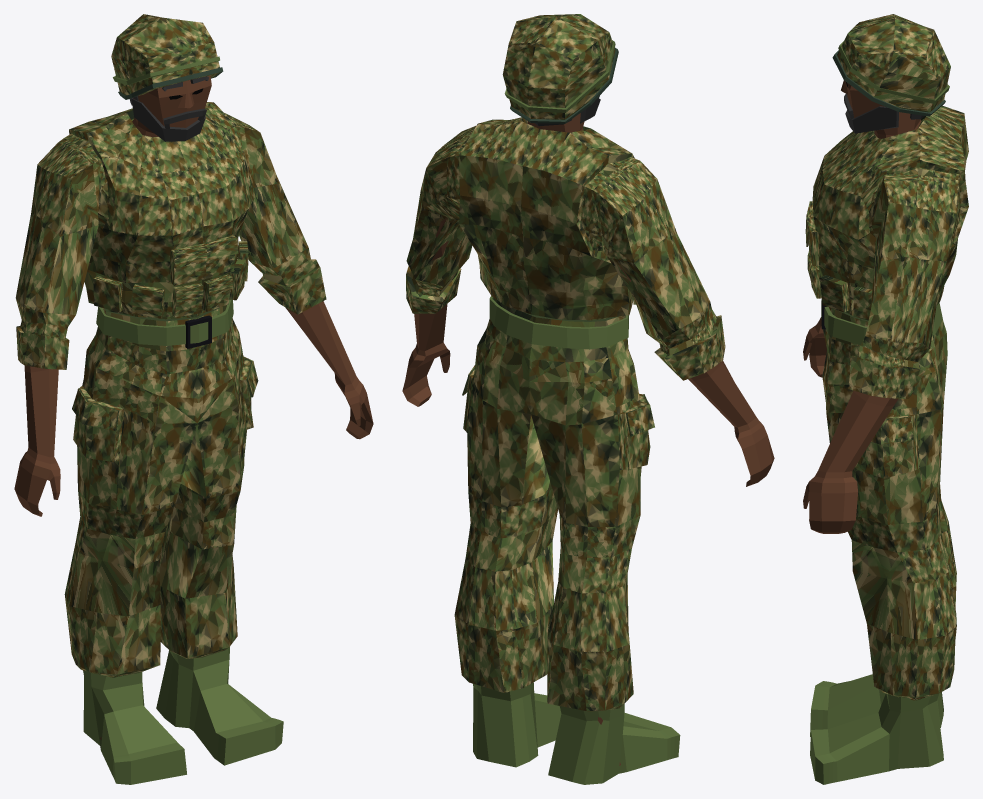
The model's file is LPC_Military_Figure_(srasmussen).fbx.
The picture shows the model from 3 angles, left to right: view 1: azimuth 30°, elevation 25°; view 2: azimuth 150°, elevation 25°; view 3: azimuth 270°, elevation 25°; orthographic projection. The views are drawn at different scales.
Parts seen in each view (by area): view 1: MG_Pants_Camo, MG Shirt_Camo, MG_Army Vest_Camo, MG_Boots_Camo.L, LPH_Arms.002, MG_BootsL_Camo.R, MG_Pockets_Camo, MG_Helmet_Camo, MG_Belt_Camo, LPH_Head.002, Beard.001; view 2: MG_Pants_Camo, MG_Army Vest_Camo, MG Shirt_Camo, MG_Helmet_Camo, MG_BootsL_Camo.R, LPH_Arms.002, MG_Boots_Camo.L, MG_Belt_Camo, MG_Band_Camo, MG_Helmet Rim_Camo; view 3: MG_Pants_Camo, MG Shirt_Camo, MG_Army Vest_Camo, MG_Boots_Camo.L, MG_Helmet_Camo, LPH_Arms.002, MG_BootsL_Camo.R, MG_Pockets_Camo, LPH_Head.002, MG_Belt_Camo, Beard.001, MG_Helmet Rim_Camo (+1 smaller).
Boxes of the visible parts, <box> form: MG_Pants_Camo: <box>64,305,258,677</box>; MG Shirt_Camo: <box>15,113,326,369</box>; MG_Army Vest_Camo: <box>69,102,255,316</box>; MG_Boots_Camo.L: <box>156,647,283,765</box>; LPH_Arms.002: <box>14,301,373,516</box>; MG_BootsL_Camo.R: <box>83,670,186,784</box>; MG_Pockets_Camo: <box>93,234,248,318</box>; MG_Helmet_Camo: <box>111,14,220,95</box>; MG_Belt_Camo: <box>96,299,233,345</box>; LPH_Head.002: <box>132,75,211,137</box>; Beard.001: <box>131,98,205,141</box>; MG_Pants_Camo: <box>454,298,654,711</box>; MG_Army Vest_Camo: <box>459,117,634,319</box>; MG Shirt_Camo: <box>406,126,725,380</box>; MG_Helmet_Camo: <box>502,14,615,119</box>; MG_BootsL_Camo.R: <box>548,704,680,784</box>; LPH_Arms.002: <box>402,218,774,486</box>; MG_Boots_Camo.L: <box>473,682,561,767</box>; MG_Belt_Camo: <box>489,296,628,349</box>; MG_Band_Camo: <box>504,40,615,112</box>; MG_Helmet Rim_Camo: <box>510,47,618,123</box>; MG_Pants_Camo: <box>822,307,956,700</box>; MG Shirt_Camo: <box>848,167,960,398</box>; MG_Army Vest_Camo: <box>812,105,968,315</box>; MG_Boots_Camo.L: <box>810,693,943,784</box>; MG_Helmet_Camo: <box>837,14,950,112</box>; LPH_Arms.002: <box>803,317,898,533</box>; MG_BootsL_Camo.R: <box>810,674,943,736</box>; MG_Pockets_Camo: <box>805,201,872,319</box>; LPH_Head.002: <box>841,80,921,138</box>; MG_Belt_Camo: <box>821,300,942,344</box>; Beard.001: <box>845,106,898,133</box>; MG_Helmet Rim_Camo: <box>832,50,945,116</box>.
Size of the model in its own units: 235 by 470 by 97.2.
Materials: 2 (2 with a texture image).
